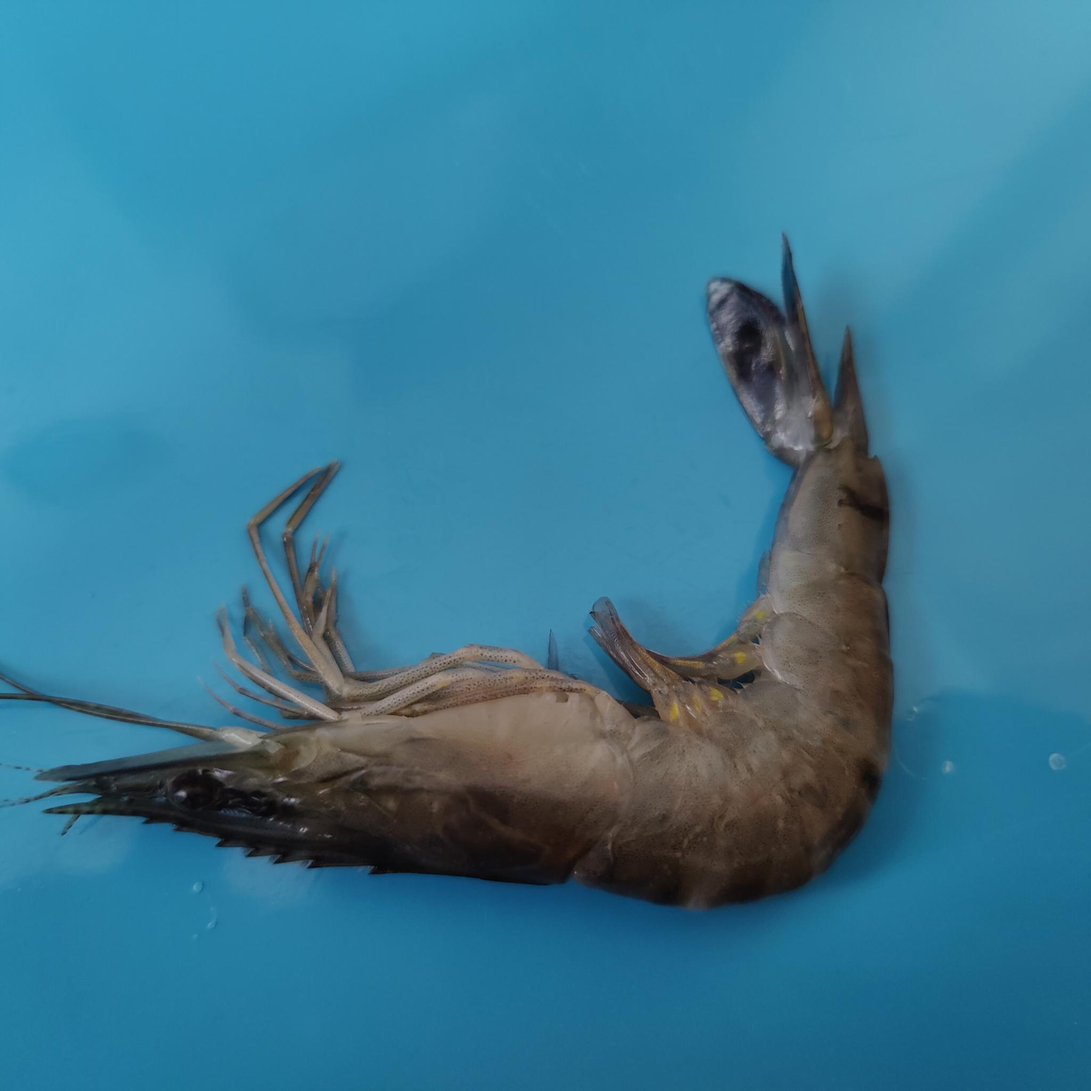whitespot: (652, 740, 864, 882), (315, 725, 532, 827)
